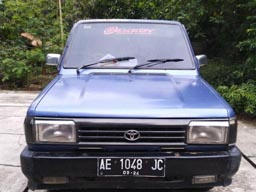plat: (96, 157, 164, 170)
